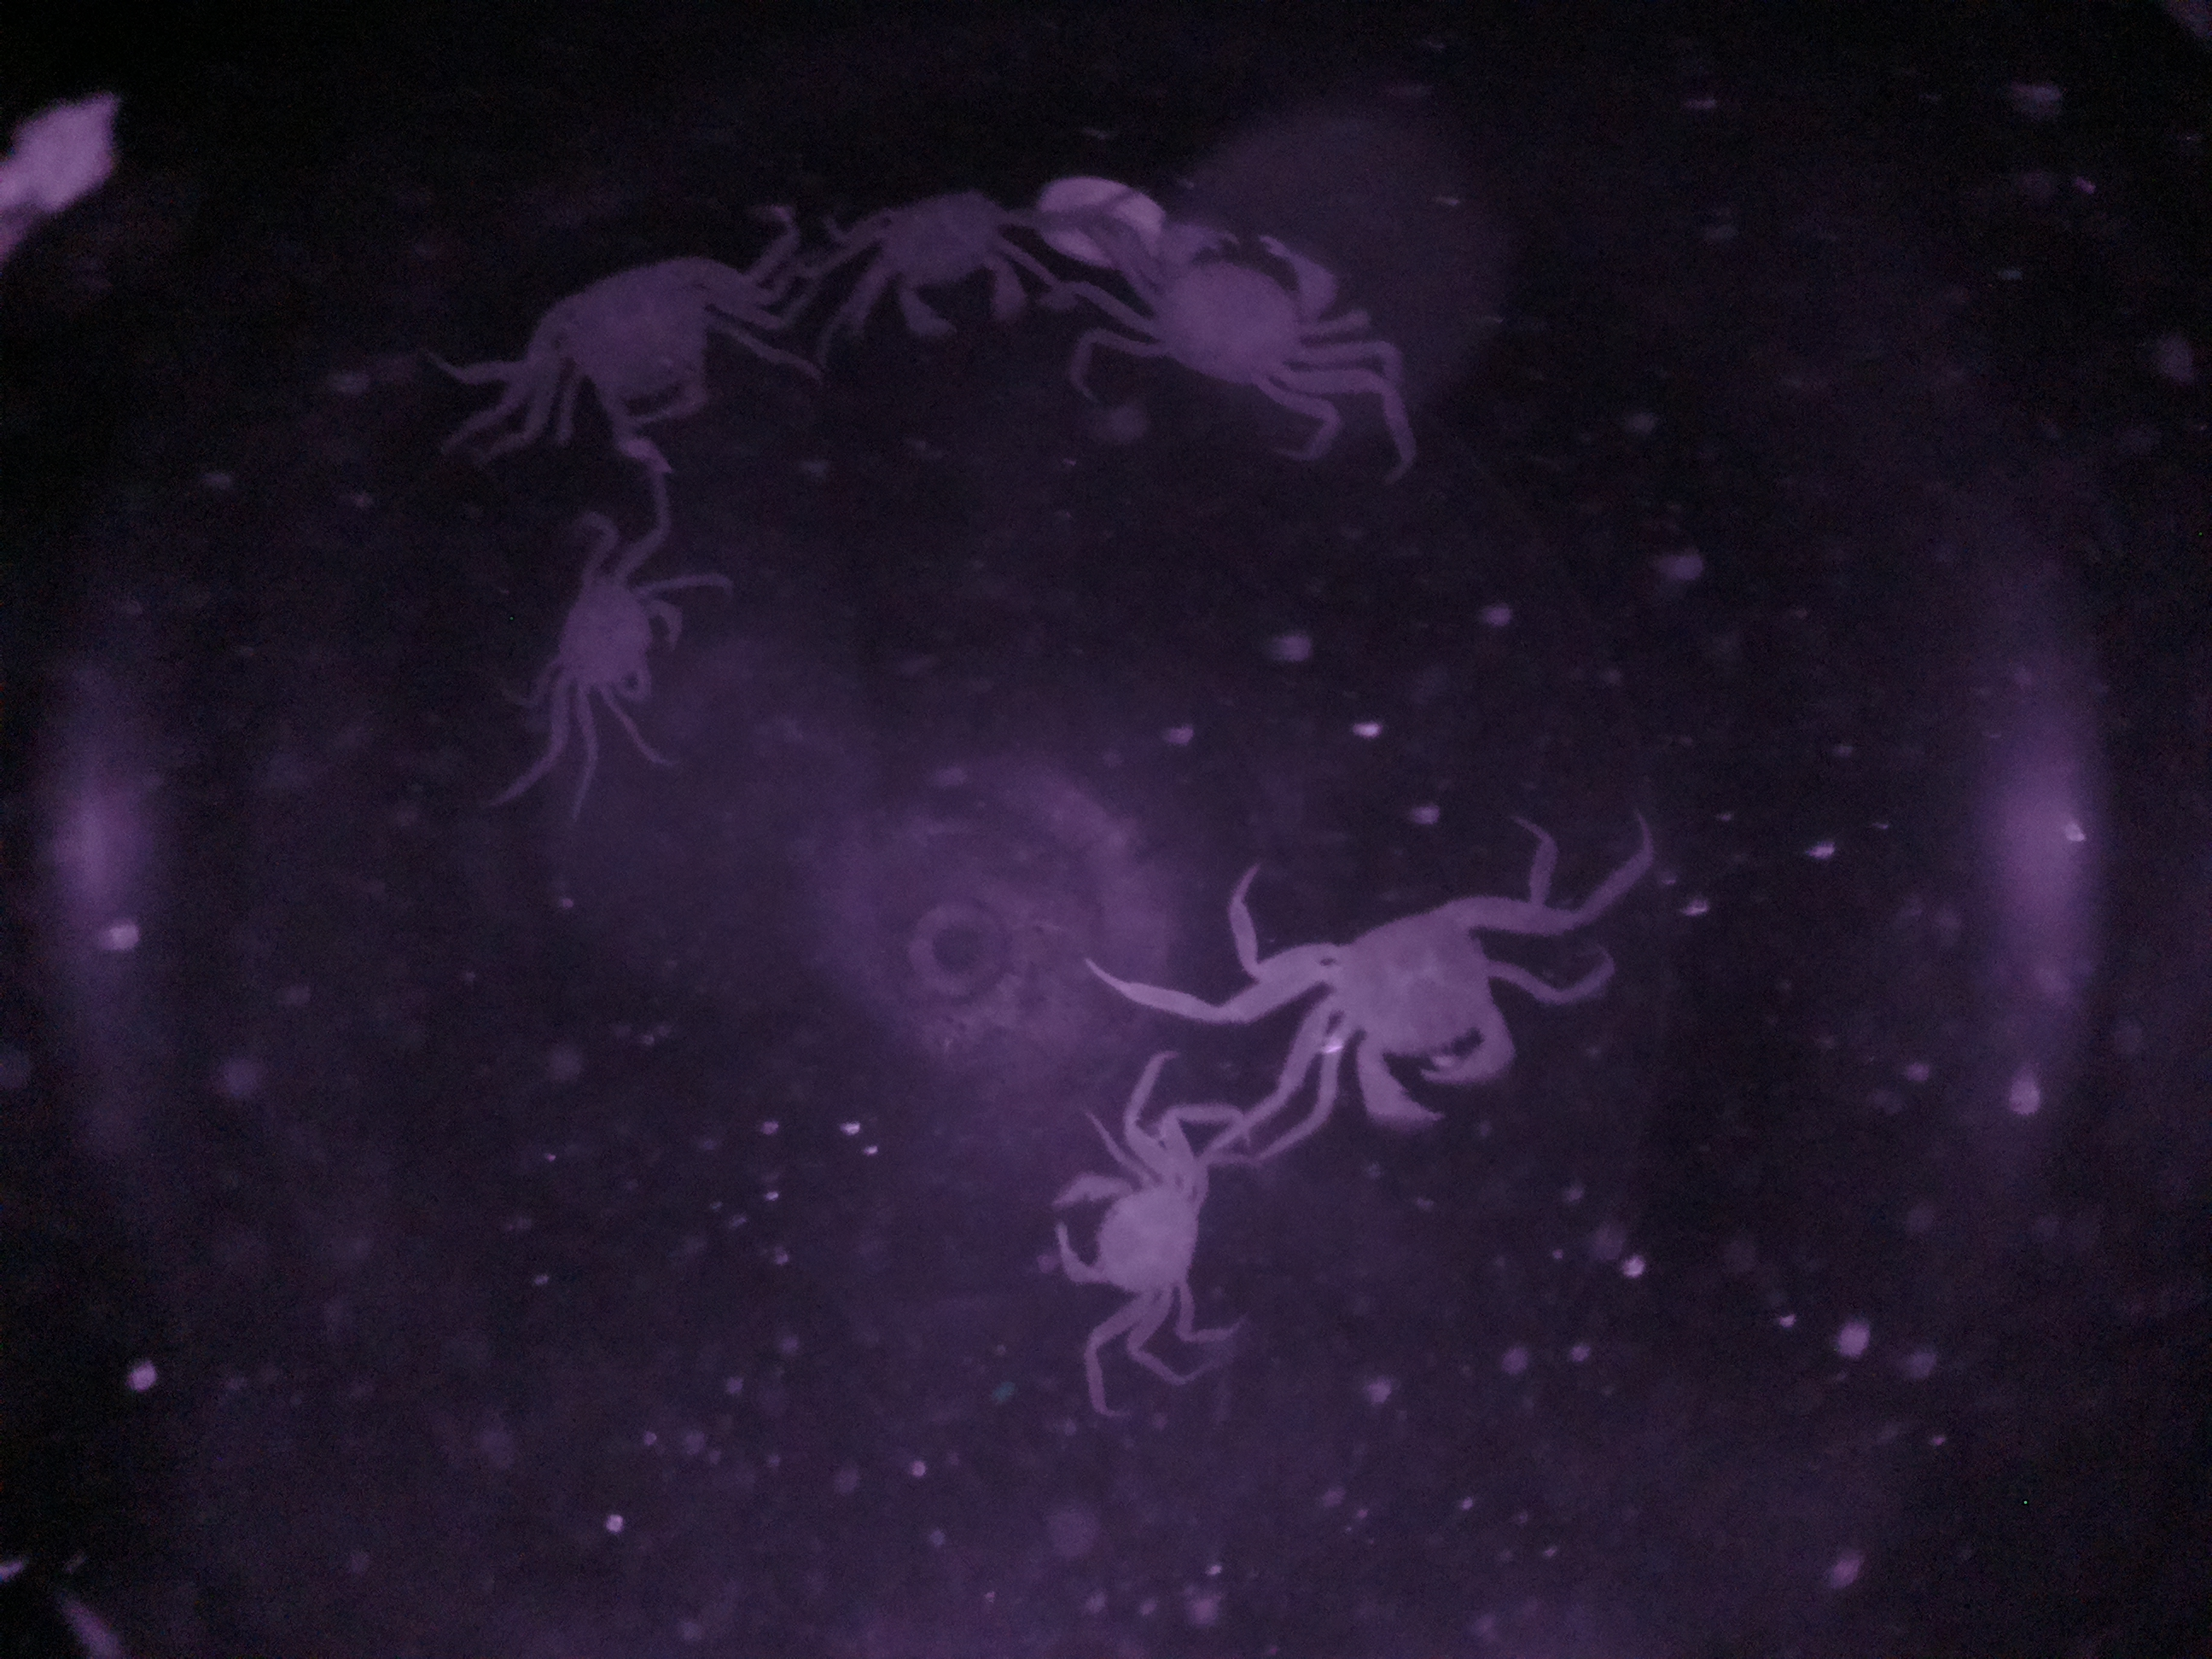Crab: (1251, 870, 1571, 1152), (1108, 207, 1369, 410), (1019, 1101, 1216, 1333), (843, 169, 1043, 357), (512, 547, 695, 737)
